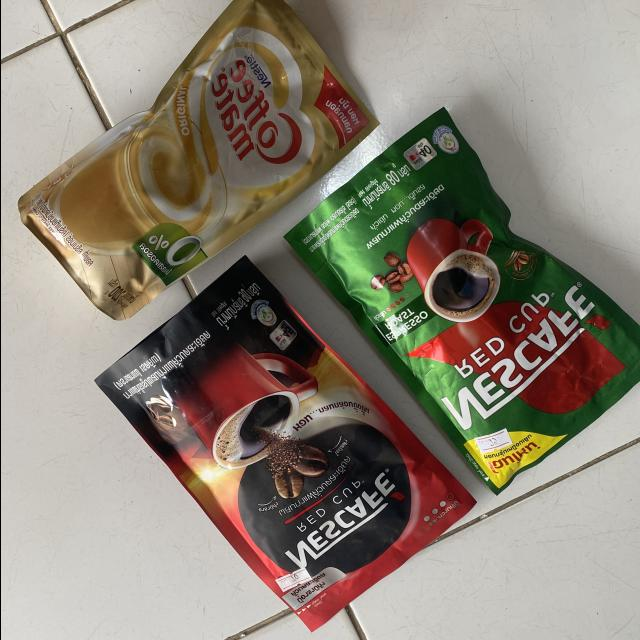plastik: (96, 257, 474, 630), (285, 109, 640, 494), (18, 0, 376, 320)
